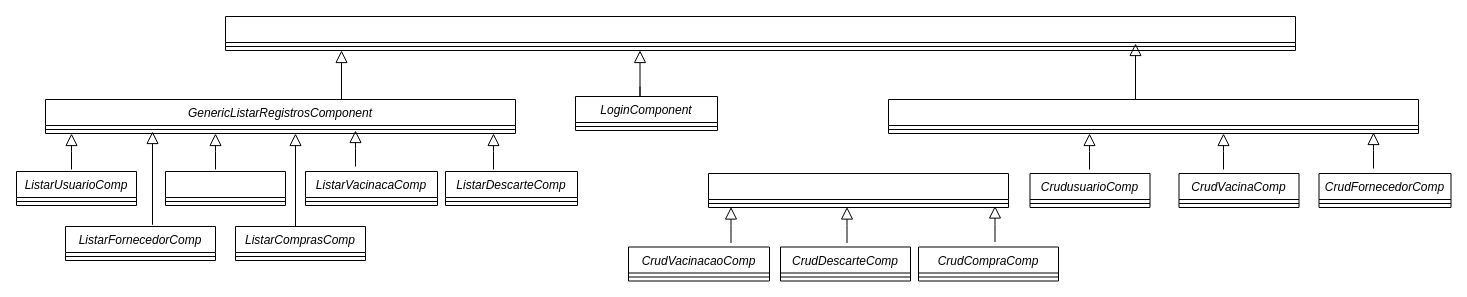
Some shapes in this 1467 by 297 pixel diagram are drawn without their labels. Here are the shapes that lost their labels. From the top down, the centre of each, then its label:
[760,33]: GenericPageComponent
[1153,116]: GenericCrudComponent
[225,188]: ListarVacinaComp
[858,190]: GenericCrudComLookupComp
